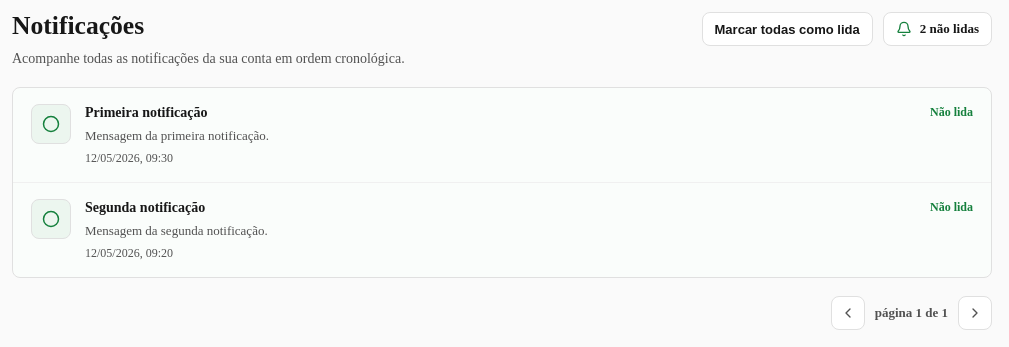
Test case: Notificacoes › marks all notifications as read from the header action
Click the button "Marcar todas como lida".
click(787, 29)  # box [702,12,873,46]
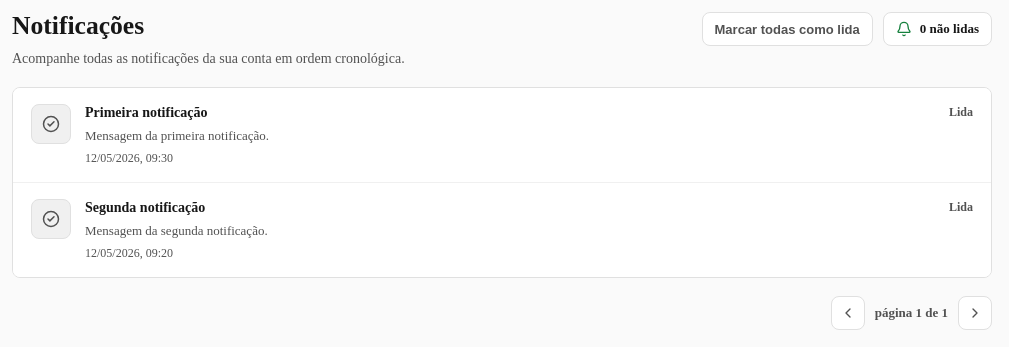
Check: the text "Lida" is shown 2 times, box [949,105,973,120]; [949,200,973,215]
Check: the text "0 não lidas" is shown, box [883,12,992,46]
